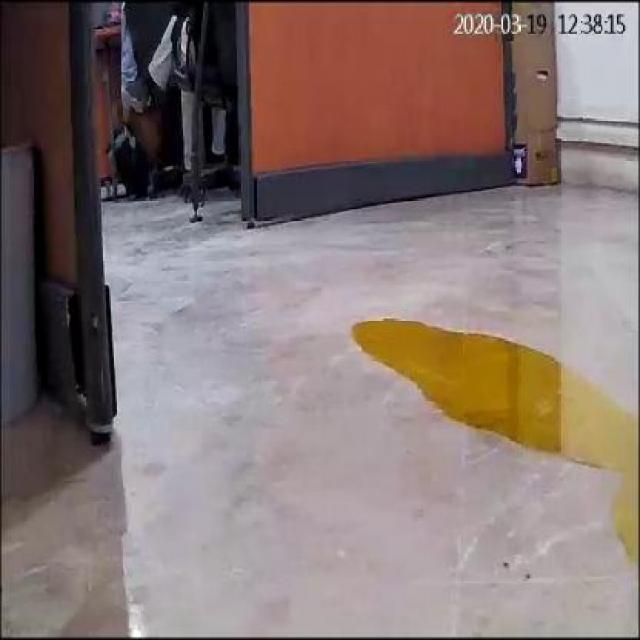spill: (346, 313, 639, 553)
